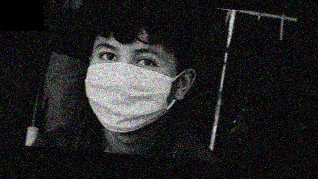with_mask: (84, 42, 176, 134)
